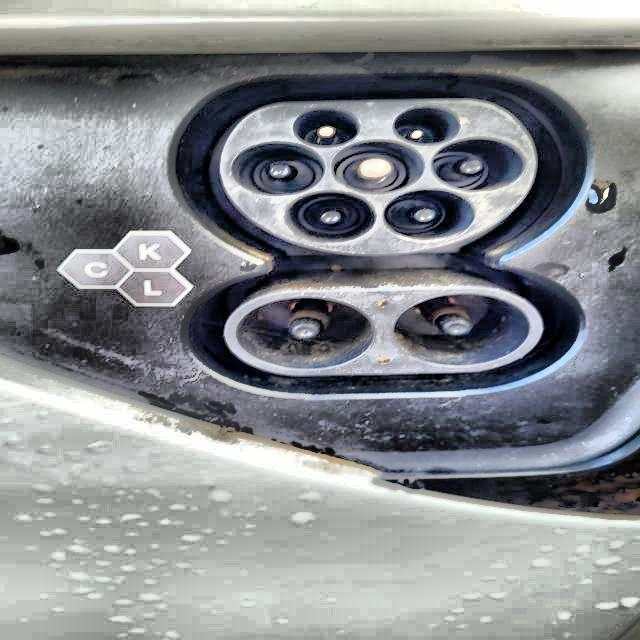inlet: (220, 98, 538, 255)
inlet-above-left: (293, 108, 362, 146)
inlet-above-right: (394, 107, 461, 144)
inlet-below-left: (287, 191, 378, 242)
inlet-below-right: (385, 188, 475, 240)
inlet-center: (331, 140, 426, 194)
inlet-center-left: (231, 143, 326, 195)
inlet-center-right: (432, 137, 525, 191)
